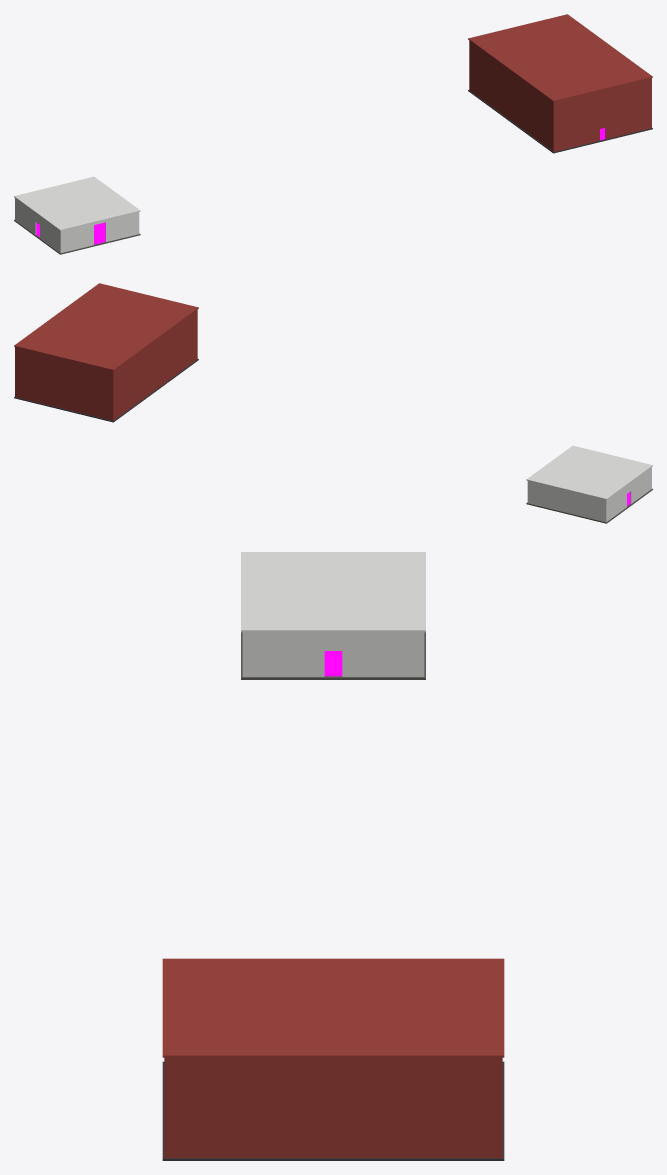
3 views of the same model, one above another, from view 1: azimuth 30°, elevation 25°; view 2: azimuth 150°, elevation 25°; view 3: azimuth 270°, elevation 25° (orthographic). The views are drawn at different scales.
Parts seen in each view (by area): view 1: HallCeiling, HallWallW.0, Ceiling, HallWallS.1, HallWallS.0, WallS.1, WallS.0, WallW.1, WallW.0, HallFloor; view 2: HallCeiling, HallWallN.0, HallWallW.0, Ceiling, WallN.0, WallW.0, WallW.1, HallFloor; view 3: HallCeiling, HallWallE.0, Ceiling, WallE.1, WallE.0, HallFloor.
Boxes of the visible parts, box(x1,y1,x2,y2) form: HallCeiling: box(468, 14, 652, 101); HallWallW.0: box(469, 41, 553, 151); Ceiling: box(14, 176, 140, 230); HallWallS.1: box(605, 78, 651, 139); HallWallS.0: box(553, 90, 599, 151); WallS.1: box(105, 212, 139, 241); WallS.0: box(59, 223, 93, 253); WallW.1: box(15, 198, 36, 234); WallW.0: box(40, 216, 60, 252); HallFloor: box(468, 90, 652, 153); HallCeiling: box(14, 283, 198, 370); HallWallN.0: box(15, 347, 113, 420); HallWallW.0: box(113, 310, 196, 420); Ceiling: box(526, 445, 652, 499); WallN.0: box(527, 481, 607, 522); WallW.0: box(630, 468, 650, 503); WallW.1: box(606, 485, 626, 521); HallFloor: box(14, 359, 198, 422); HallCeiling: box(162, 958, 504, 1057); HallWallE.0: box(166, 1057, 500, 1158); Ceiling: box(241, 552, 425, 632); WallE.1: box(342, 632, 422, 676); WallE.0: box(244, 632, 324, 676); HallFloor: box(162, 1061, 504, 1160).
Size of the model in its own units: 119 by 10.4 by 30.6.
